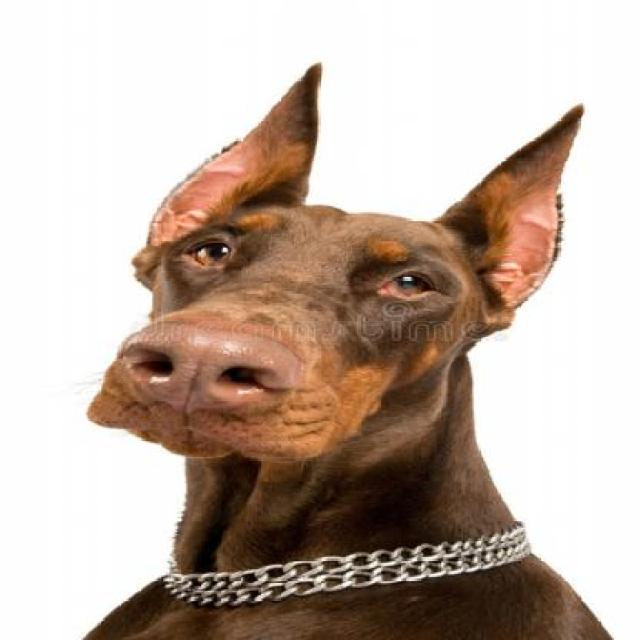animals: (94, 55, 640, 640)
